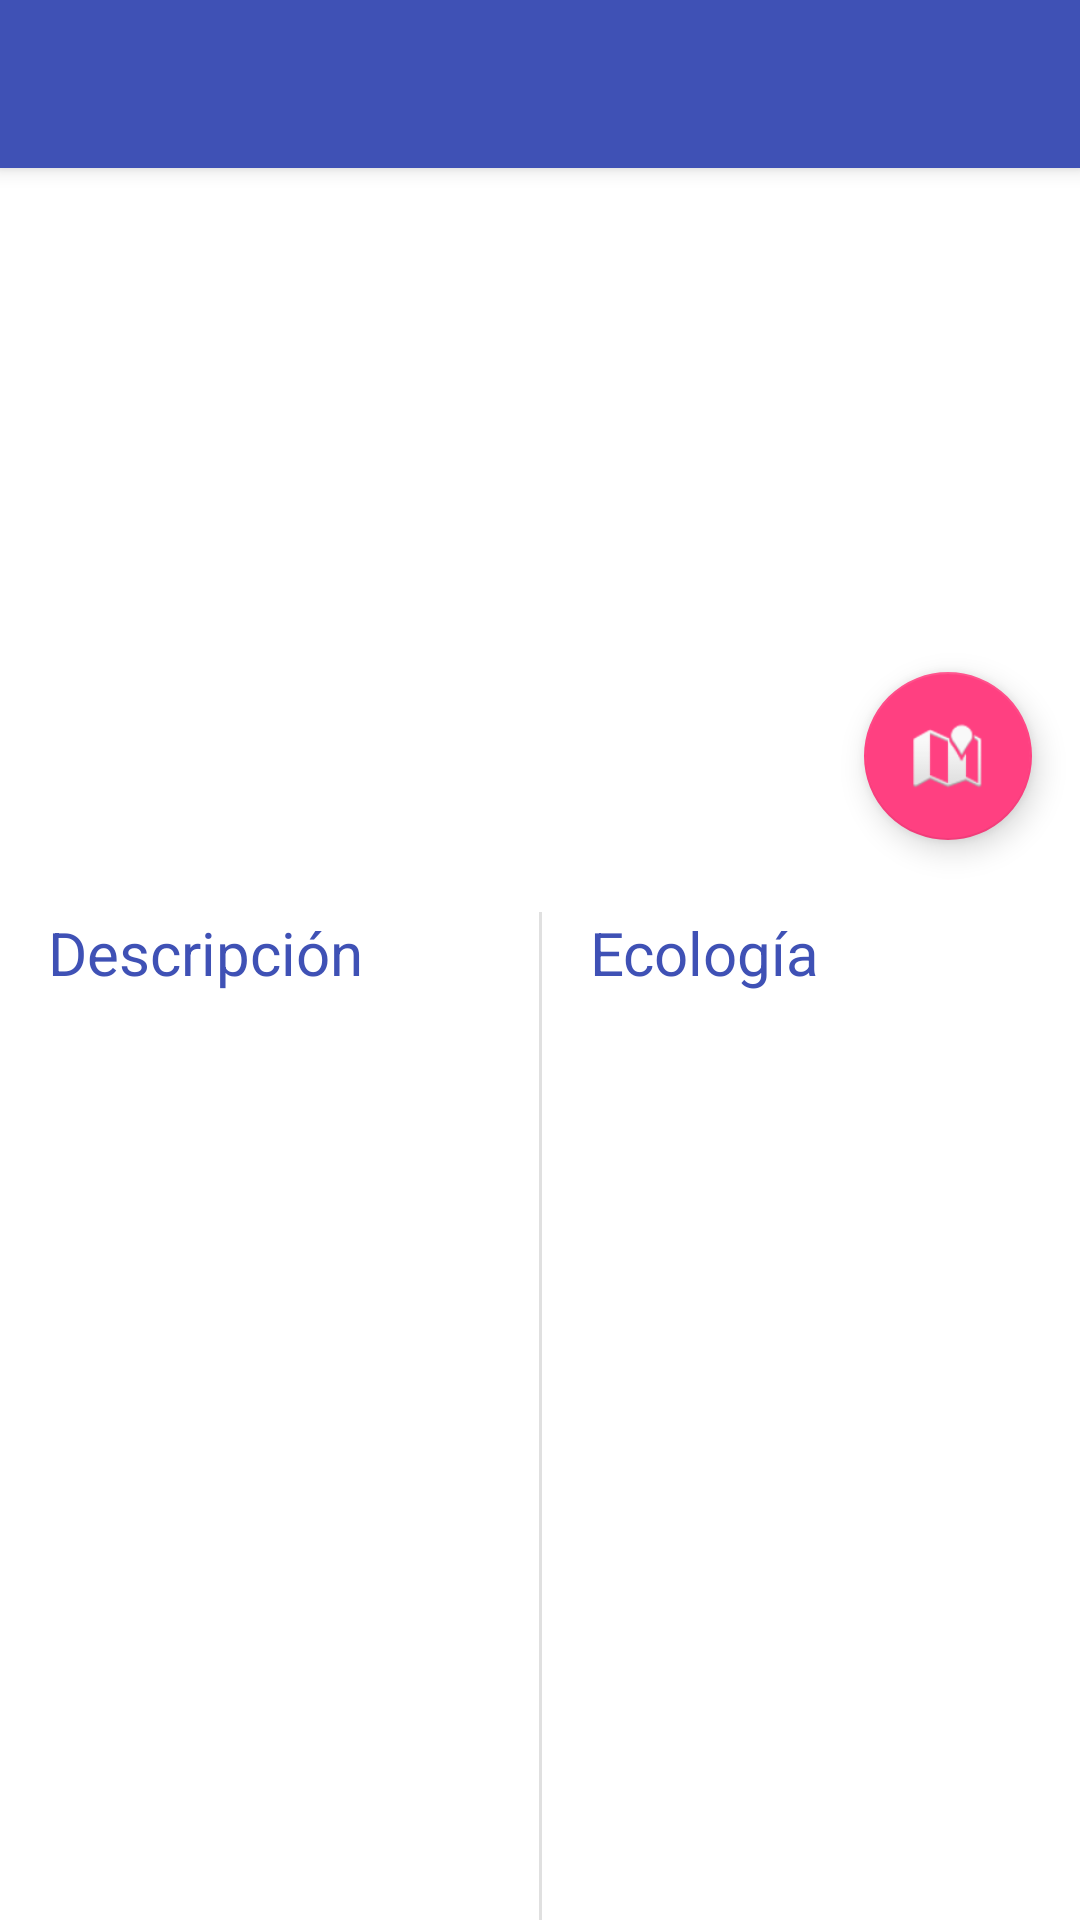

Icon click points for this 1080px x 1920px phone screenshot, format (x,y):
map: (948,756)
